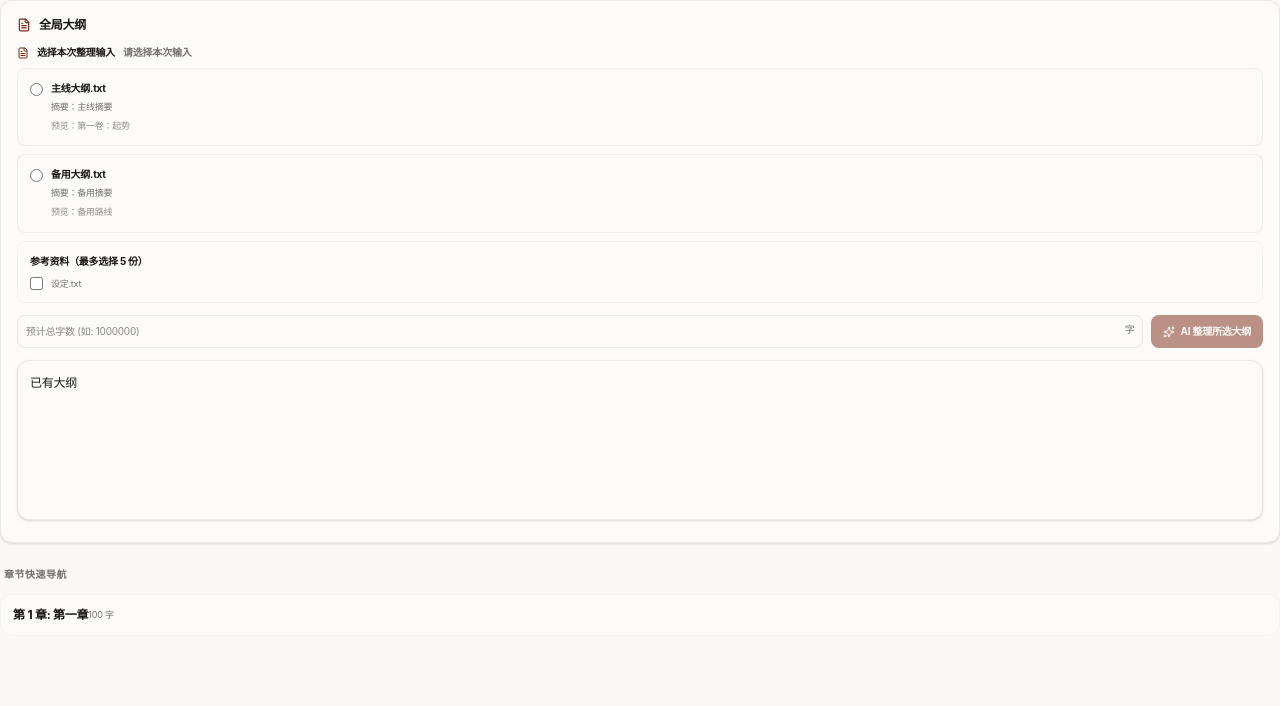
Test: OutlineTab - Plan 135 Behavior Tests › shows a persistent save error and preserves the old outline when adoption fails
The width and height of the screenshot is (1280, 706).
Click the radio button labelled "主线大纲.txt 摘要：主线摘要 预览：第一卷：起势". click: (36, 90)
box: [30, 83, 43, 96]
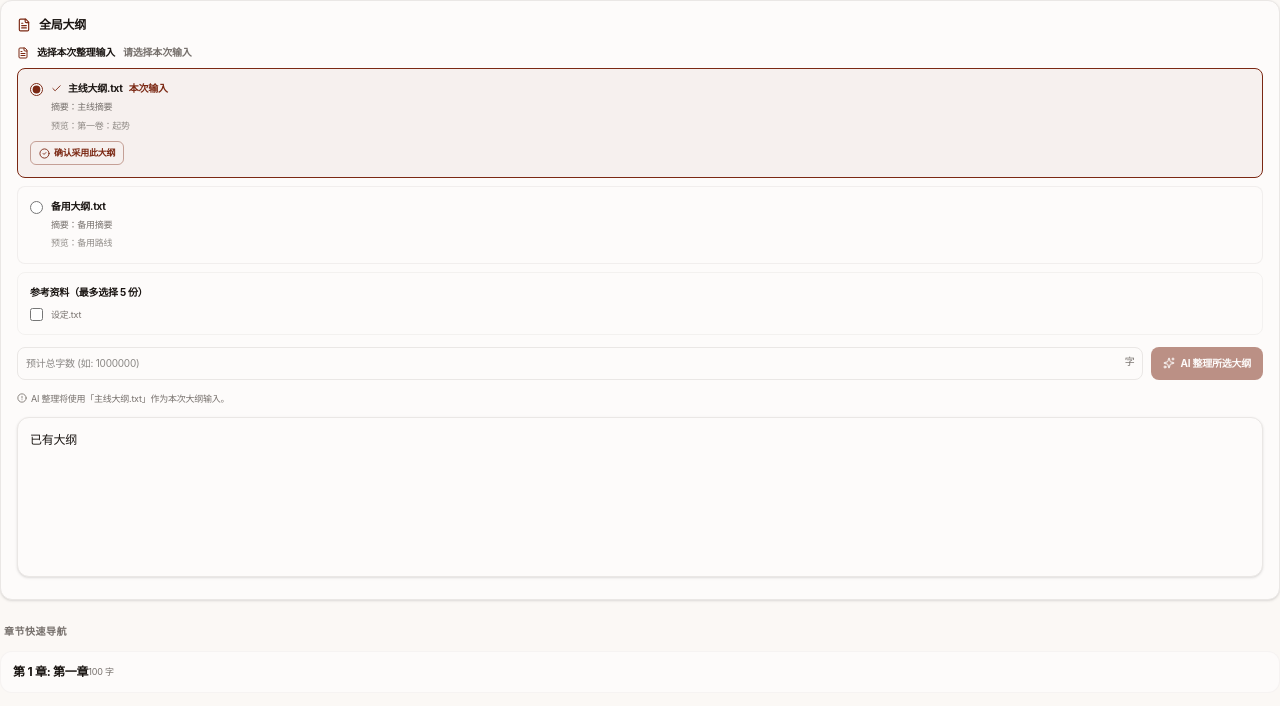
Click the button "确认采用此大纲". click: (77, 153)
box: [30, 141, 124, 165]
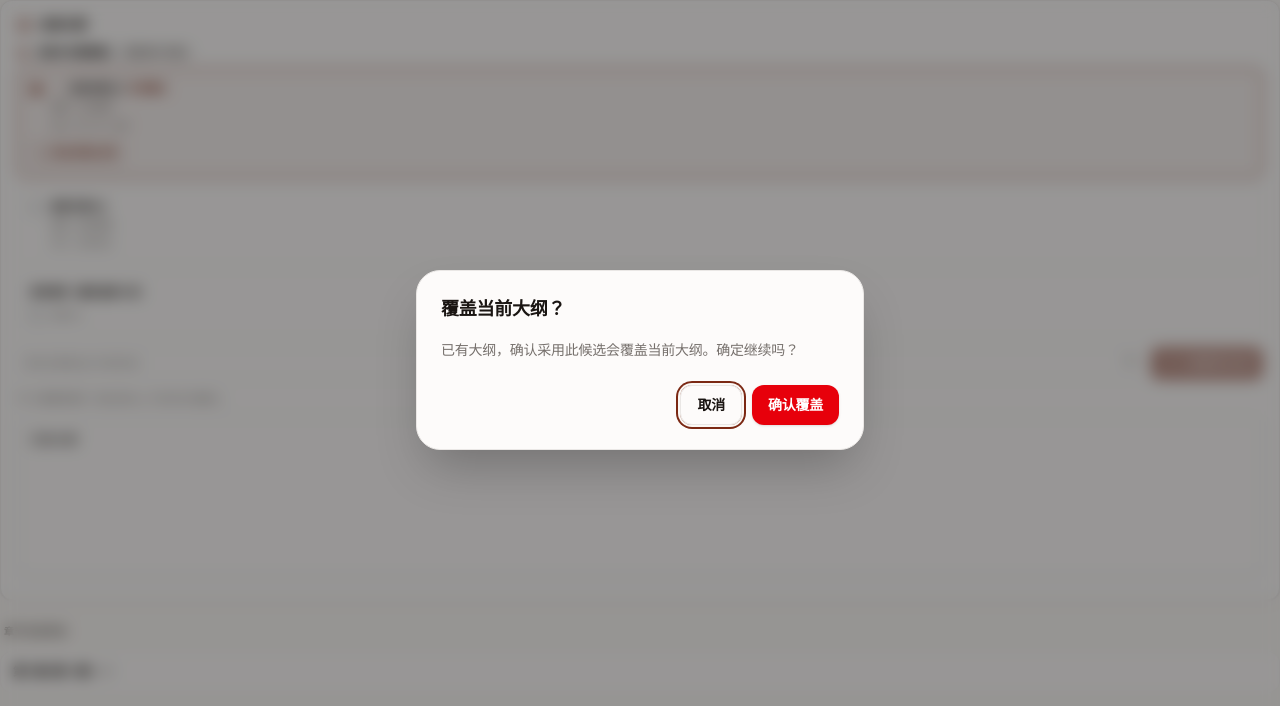
Click the button "确认覆盖". click: (796, 405)
box: [752, 385, 839, 425]
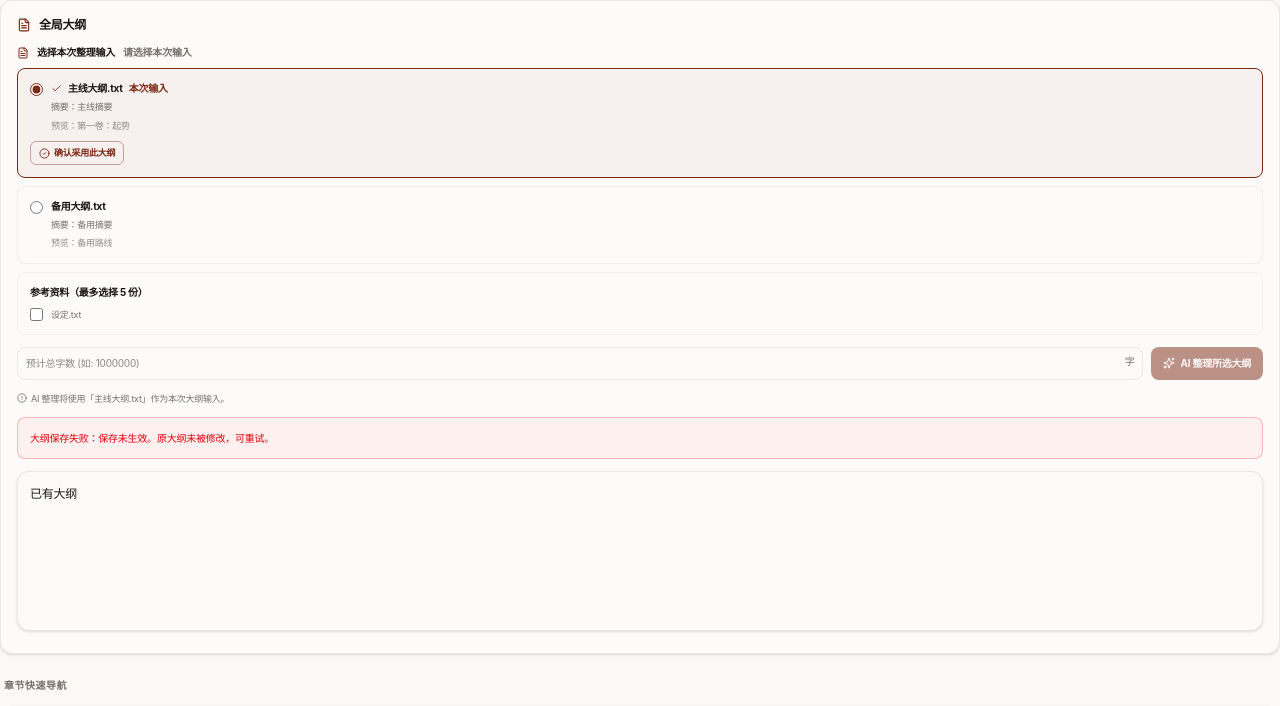
Expected: the message "大纲保存失败：保存未生效。原大纲未被修改，可重试。" is shown, [17, 417, 1263, 459]
